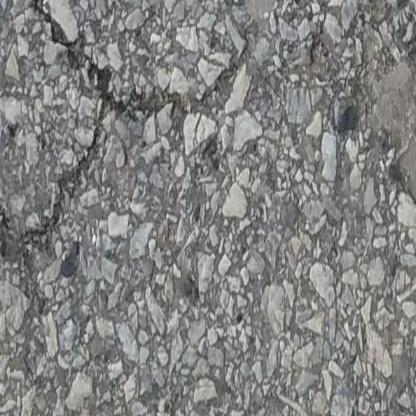Cracks: (0, 0, 252, 269)
